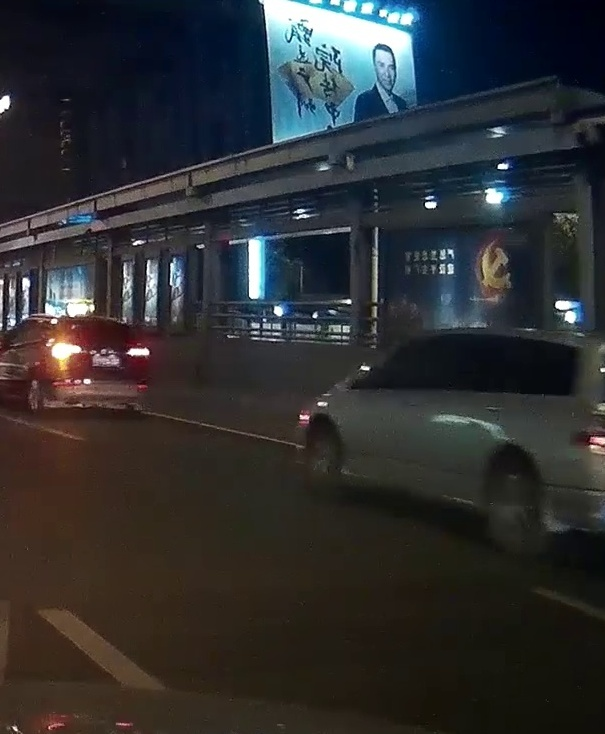L_light: (51, 343, 82, 360)
R_light: (126, 347, 149, 361)
T_light: (88, 319, 106, 324)
night-left: (46, 315, 150, 415)
